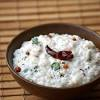curd_rice: (8, 21, 98, 82)
